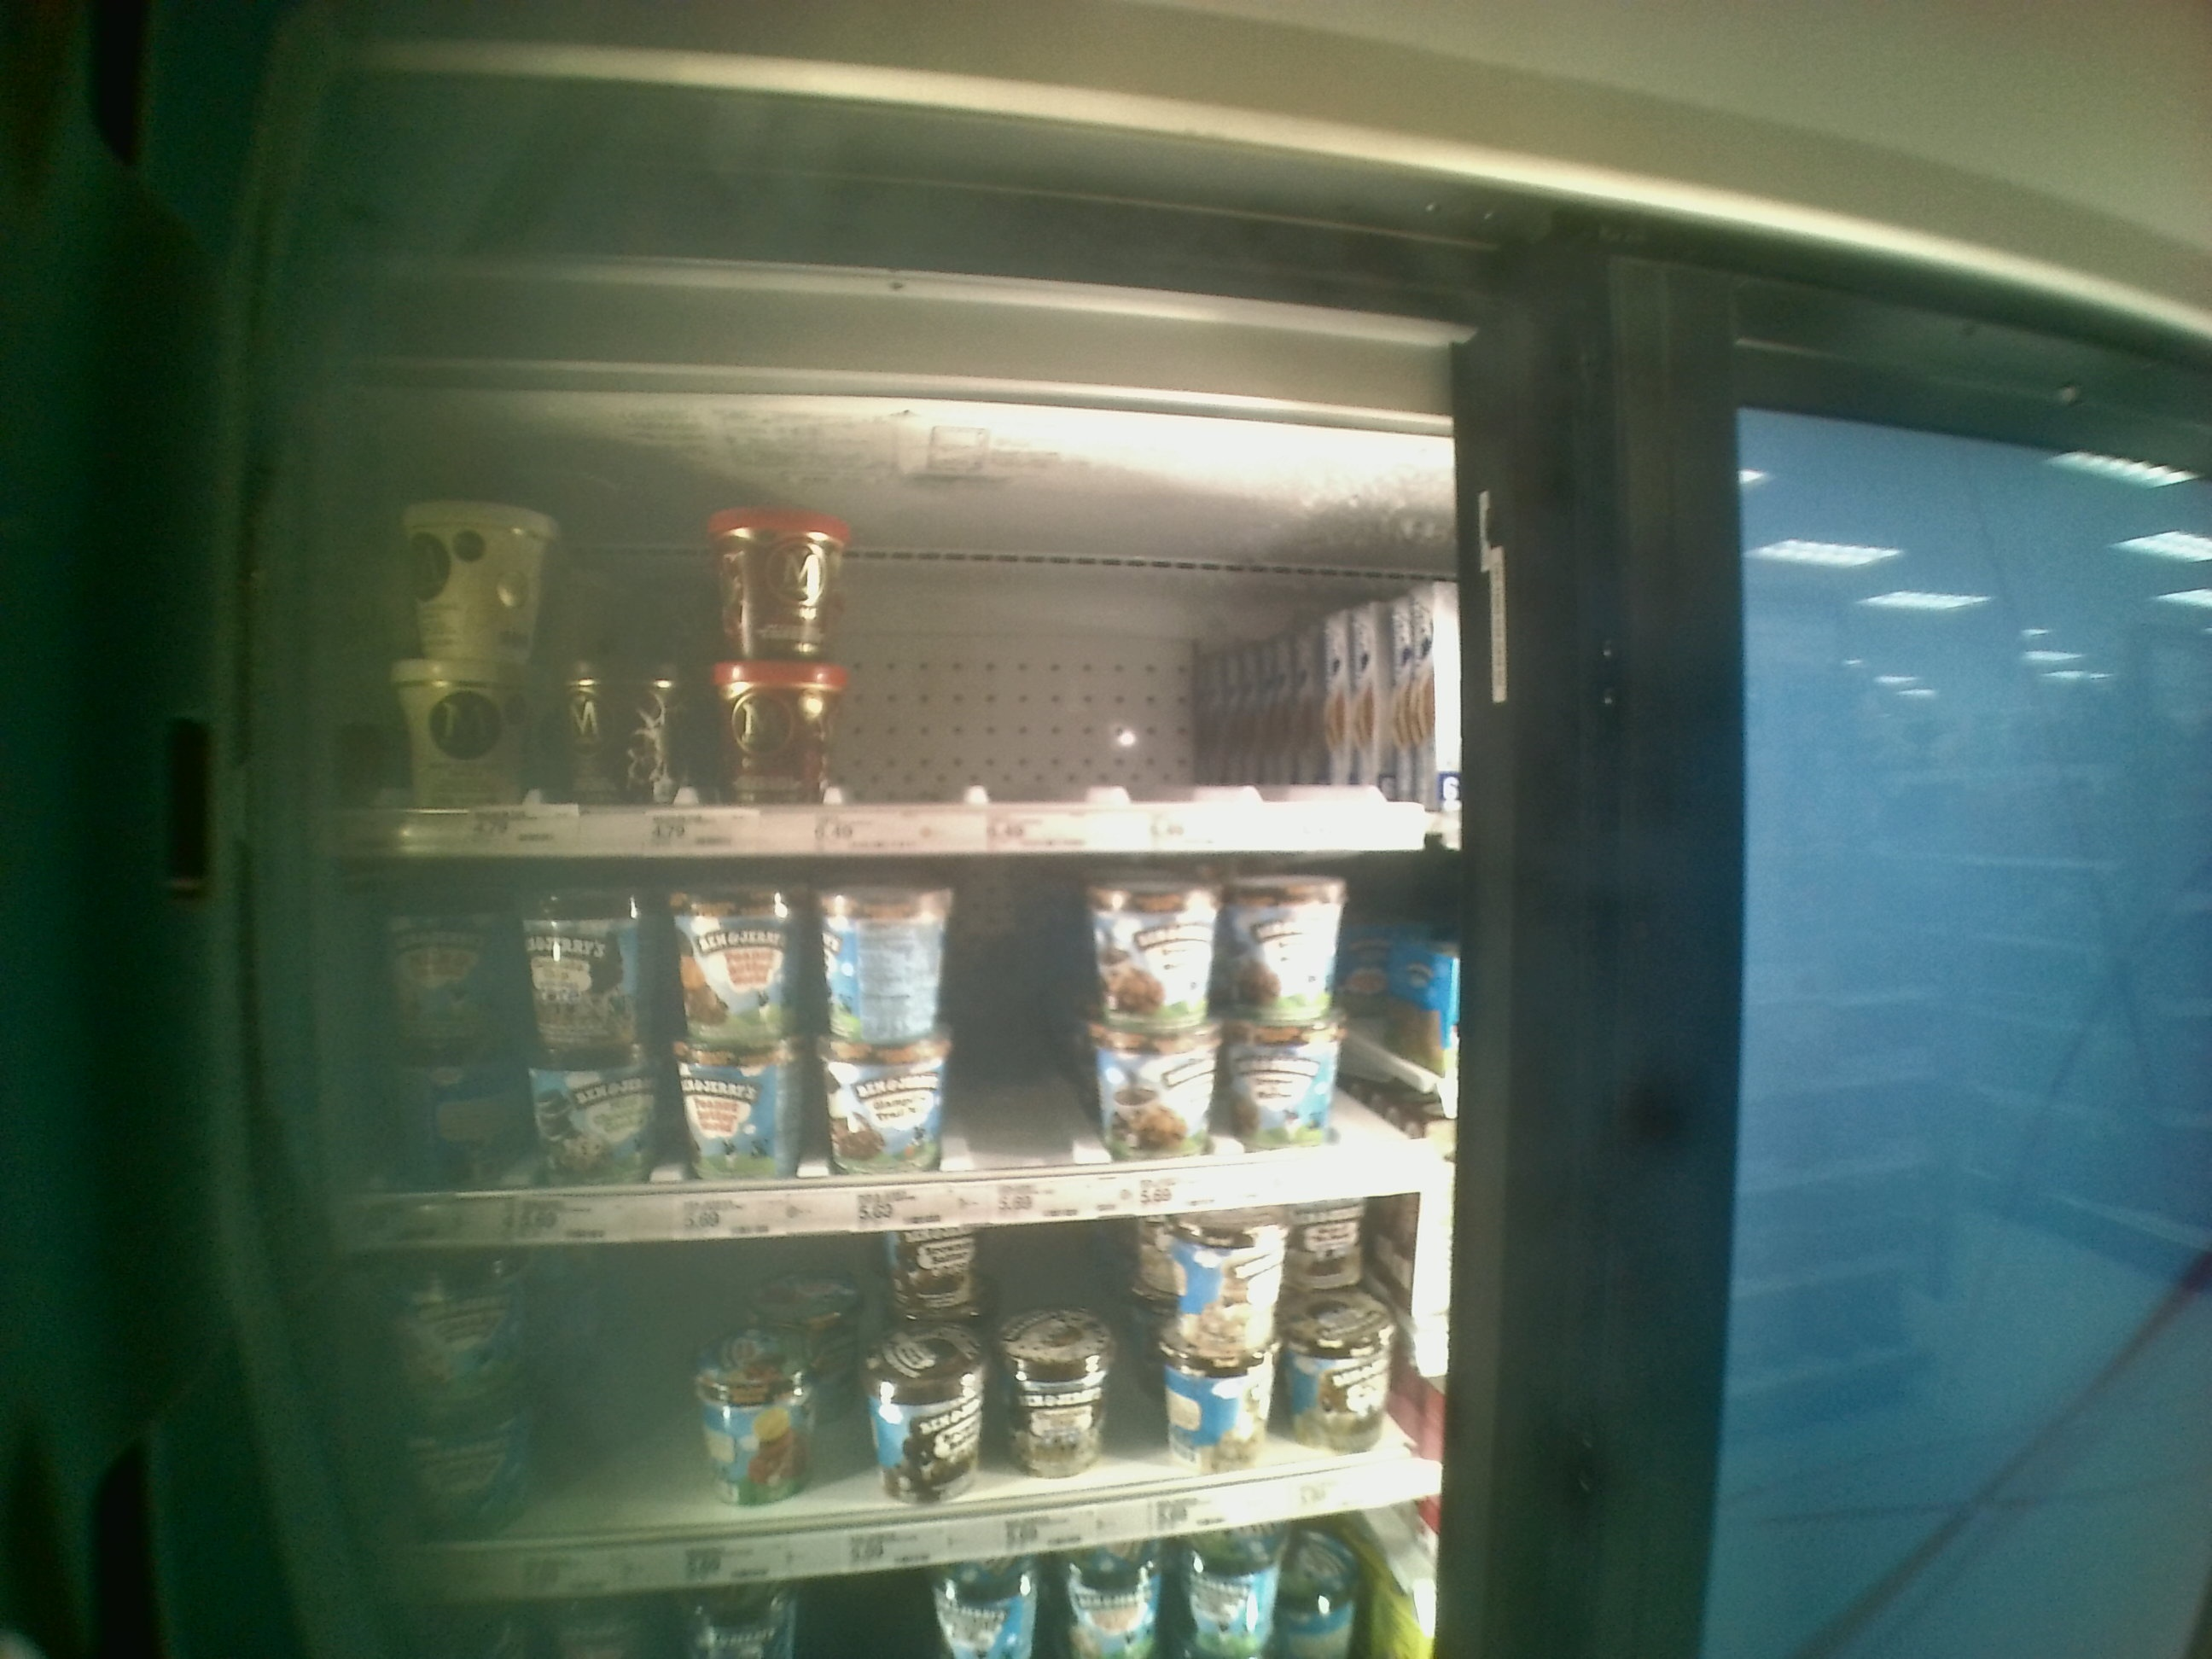ice-cream-shelf: (315, 437, 1460, 849), (314, 854, 1451, 1248)
